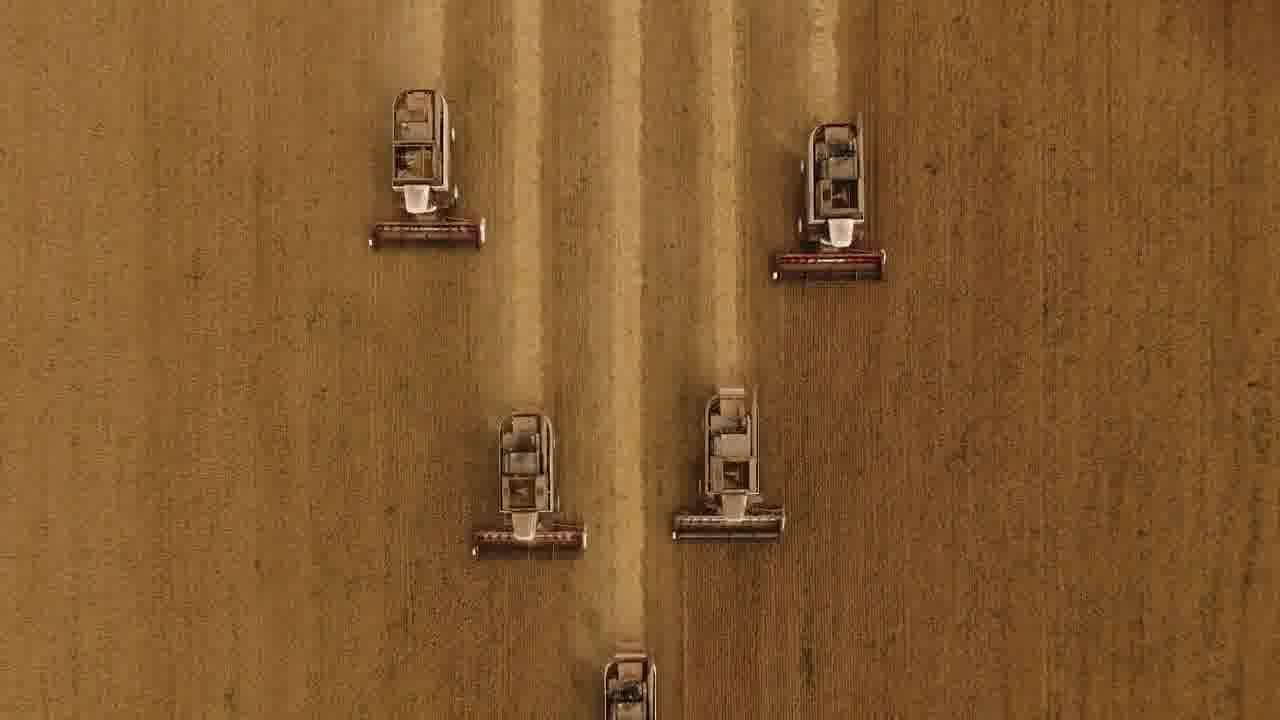combine harvester: (758, 112, 894, 290), (357, 83, 491, 255), (668, 368, 790, 550), (464, 405, 592, 567), (586, 642, 660, 719)
